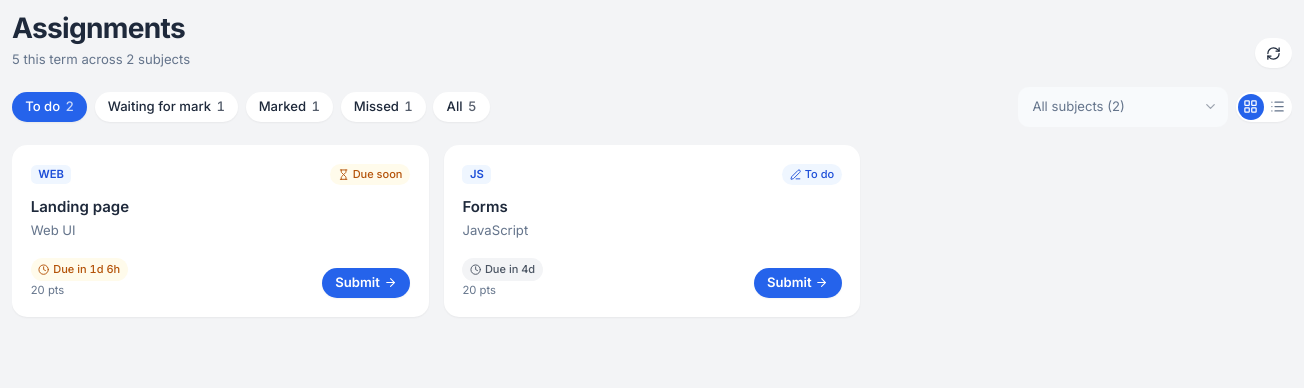
it: Student assignments › filters by status and keeps it in the URL
Click the button "Missed 1": (383, 107) [341, 92, 426, 122]
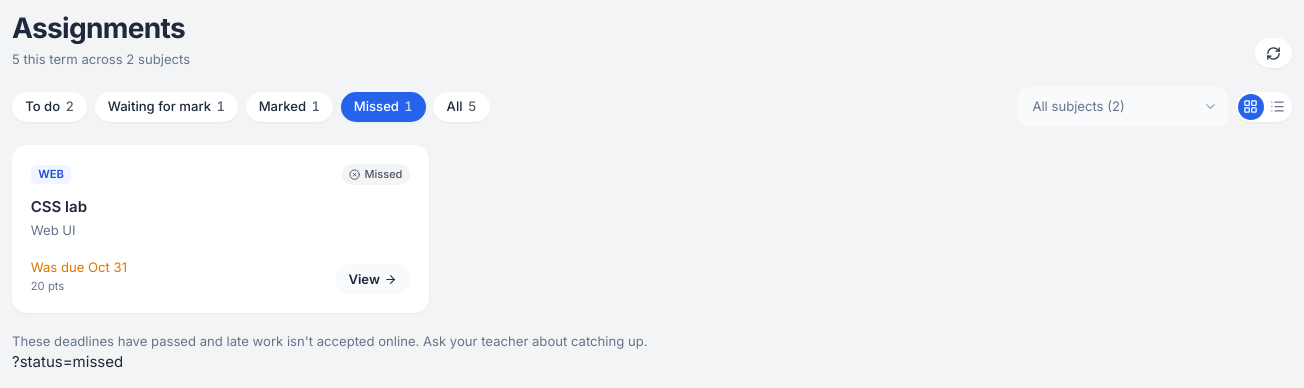
Expected: the text with test id "location" reads "?status=missed", [12, 352, 123, 371]
Expected: the text "Ask your teacher about catching up" is shown, [12, 333, 648, 349]
